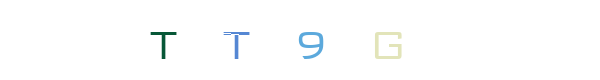9: (260, 0, 340, 80)
G: (304, 0, 384, 80)
T: (123, 0, 203, 80), (245, 0, 325, 80)
